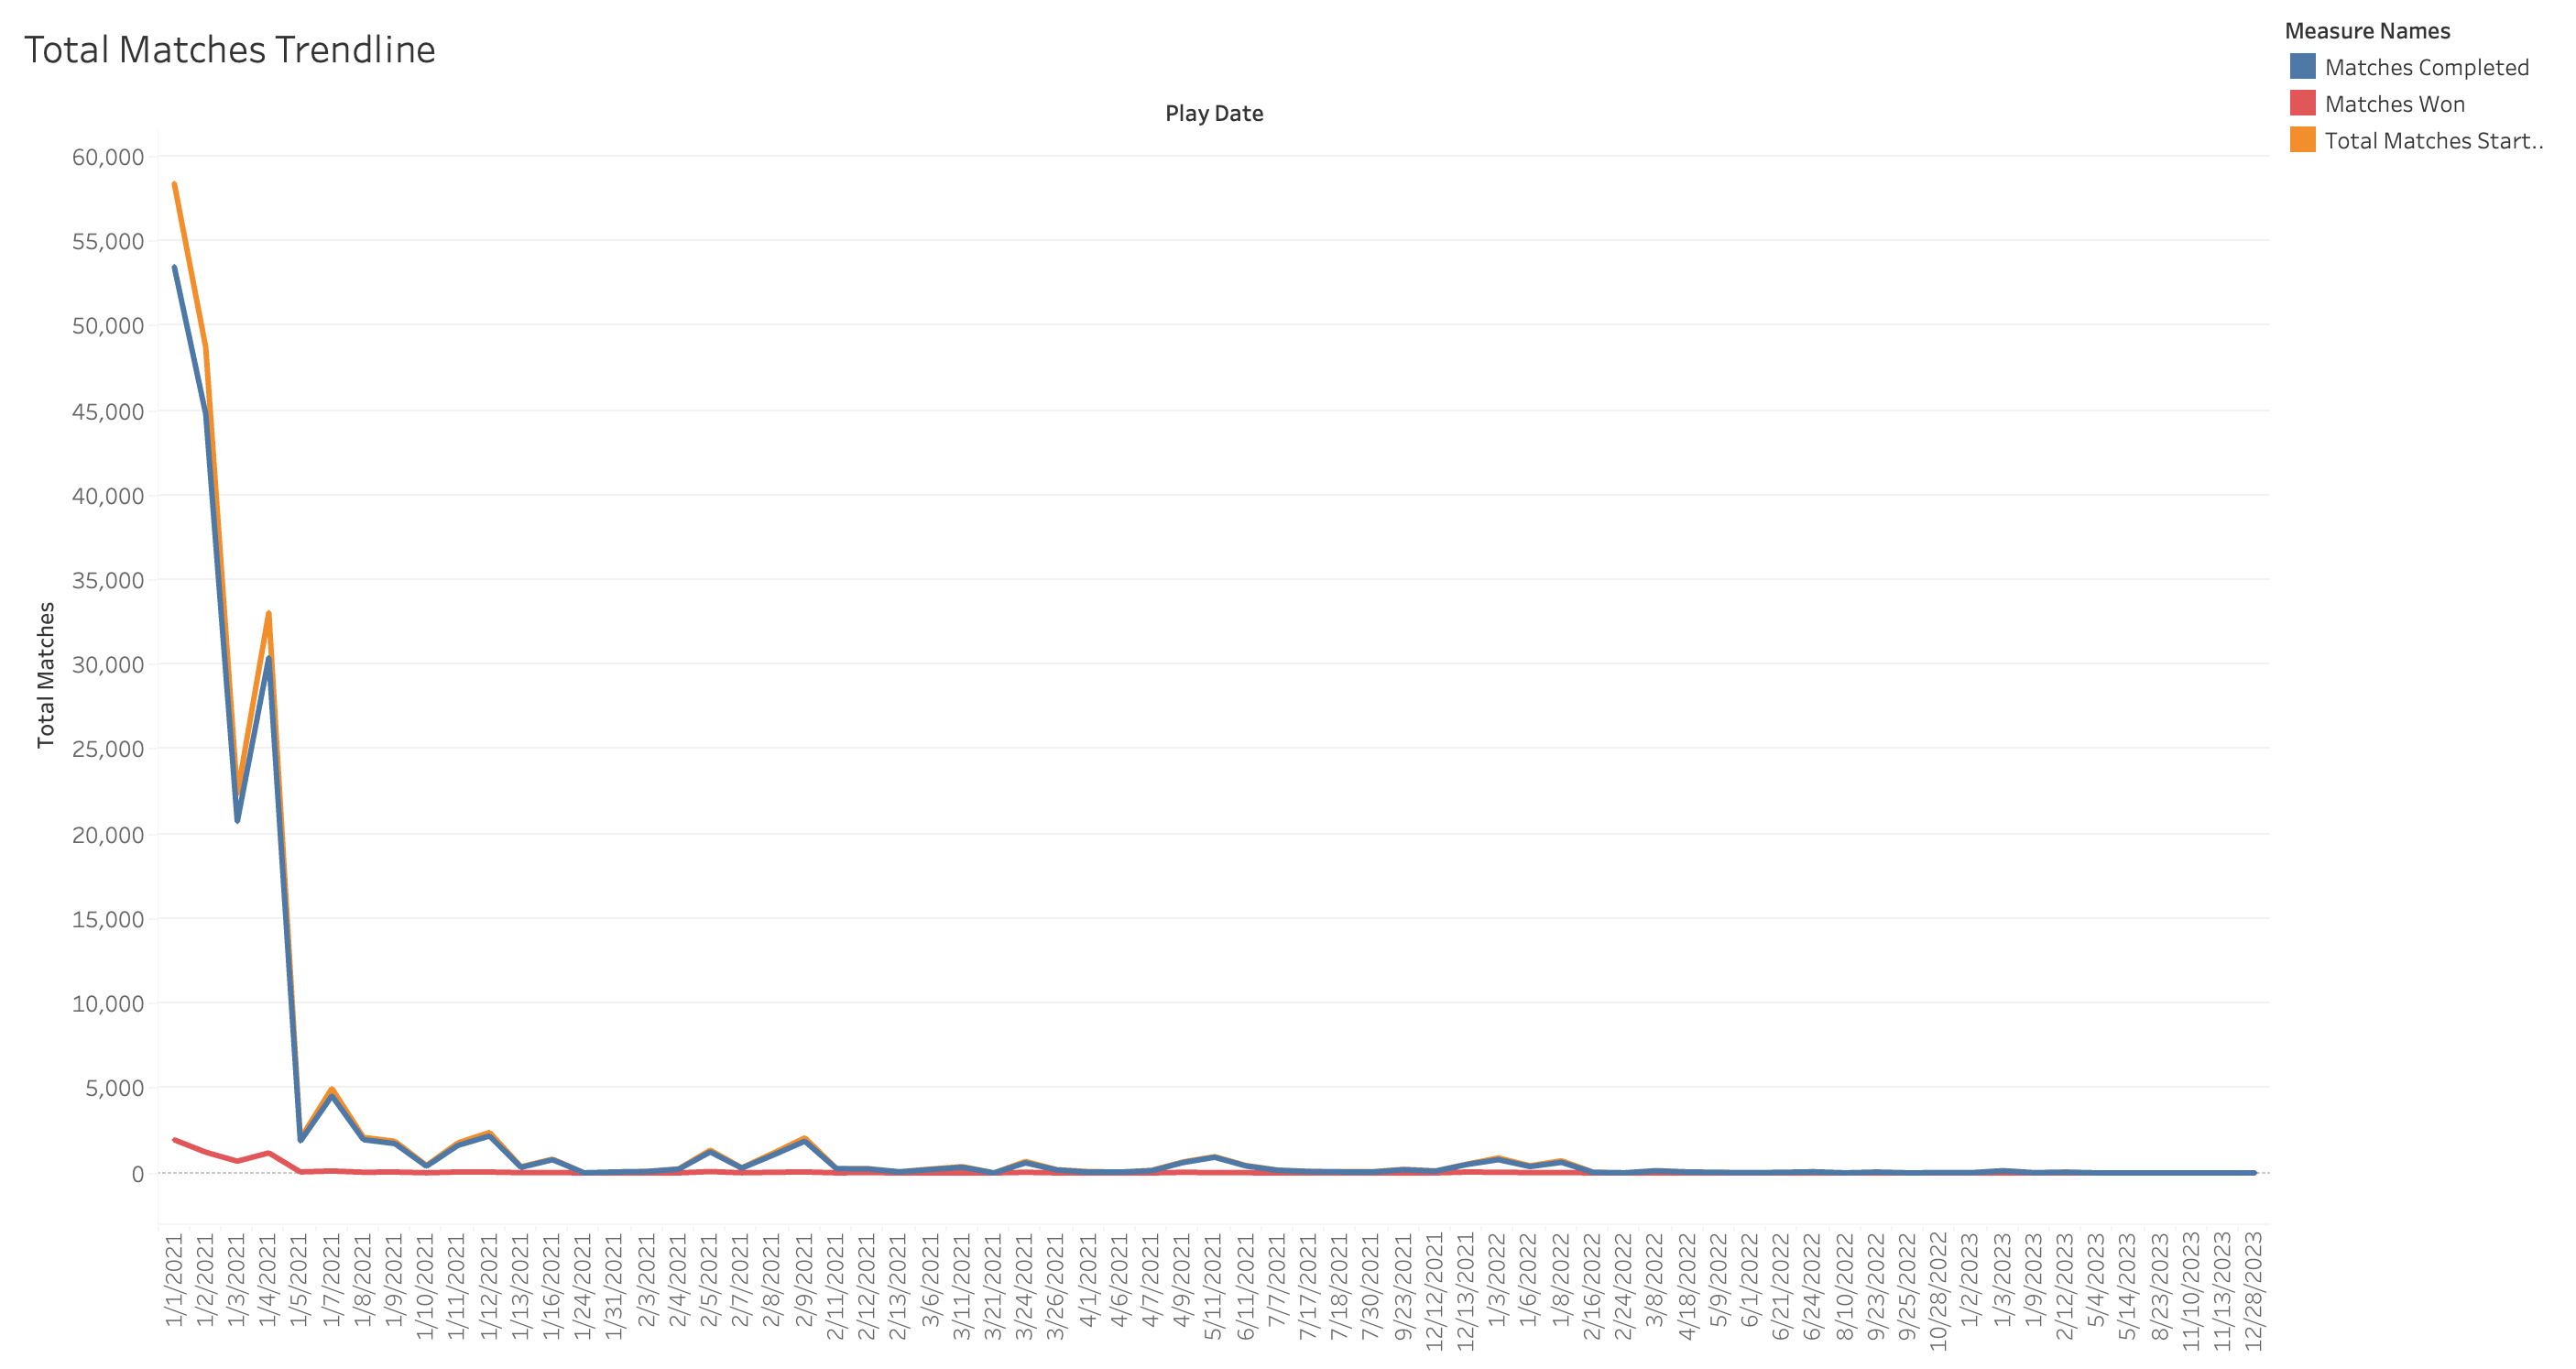

Layout of this report page (visuals, bound fields, positions):
{"tool":"tableau","page":{"name":"Total Matches Trends","canvas":[1000,1000],"units":"permille","ordinal":2},"visuals":[{"type":"worksheet","title":"Total Matches Trendline","mark":"Automatic","cols":["PLAY_DATE"],"box":[5.7,10.6,875.5,978.8]},{"type":"legend","title":"Total Matches Trendline","param":"[federated.145kvsn021he6w137u2wi038xfv4].[:Measure Names]","box":[881.2,10.6,113.2,113.9]}]}

Visuals, with their boxes on the dashboard's canvas, which has no fixed pixel size, in thousandths of its width and height (x1, y1, x2, y2). These are canvas units, not pixel positions in the 2576x1369 screenshot, which may show the page scaled, cropped or inside an application window:
"Total Matches Trendline" worksheet: bbox=(6, 11, 881, 989)
"Total Matches Trendline" legend: bbox=(881, 11, 994, 124)
